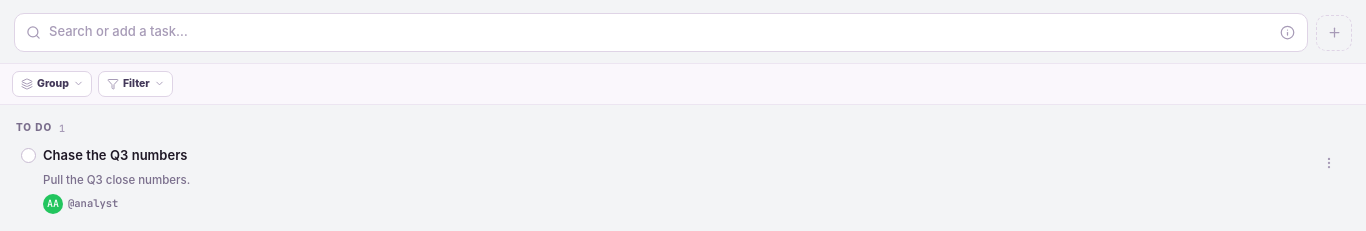
Test case: TodoRail inline rename › swaps the title for a pre-filled field, and does NOT load the row
The width and height of the screenshot is (1366, 231).
Click the button titled "Click to rename" at (115, 156), box [43,147,187,165]
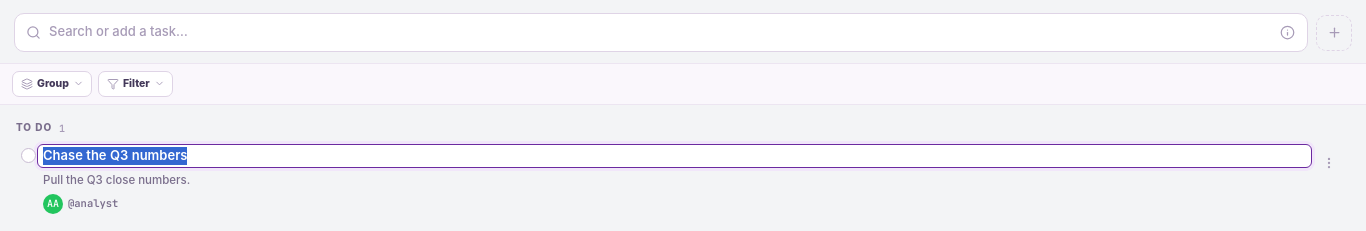
Result: the field named "Task title" holds "Chase the Q3 numbers" at [37,144,1312,168]
